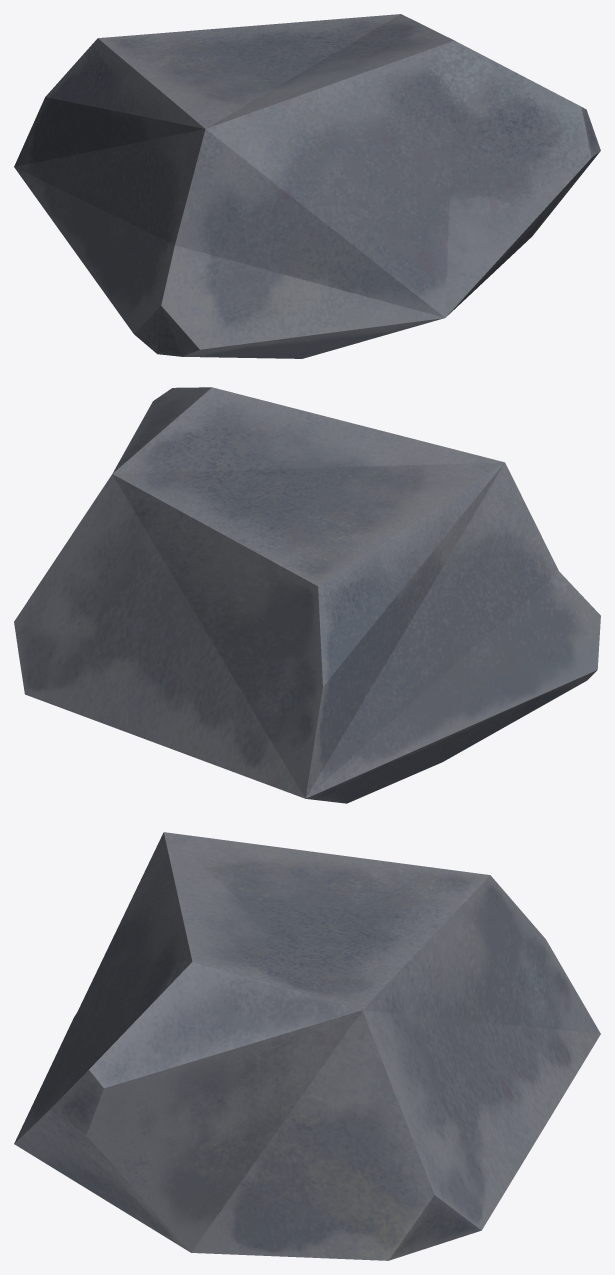
File: stylized_rock_11.fbx
3 views of the same model, one above another, from view 1: azimuth 30°, elevation 25°; view 2: azimuth 150°, elevation 25°; view 3: azimuth 270°, elevation 25° (orthographic). The views are drawn at different scales.
Visible parts, largest first — view 1: stylized_rock_11; view 2: stylized_rock_11; view 3: stylized_rock_11.
Part boxes in pixels (x1,y1,x2,y2): stylized_rock_11: [14, 14, 600, 358]; stylized_rock_11: [14, 387, 600, 803]; stylized_rock_11: [14, 832, 600, 1260].
Bounding box in the file's own units: 63.32 × 37.85 × 63.11.
